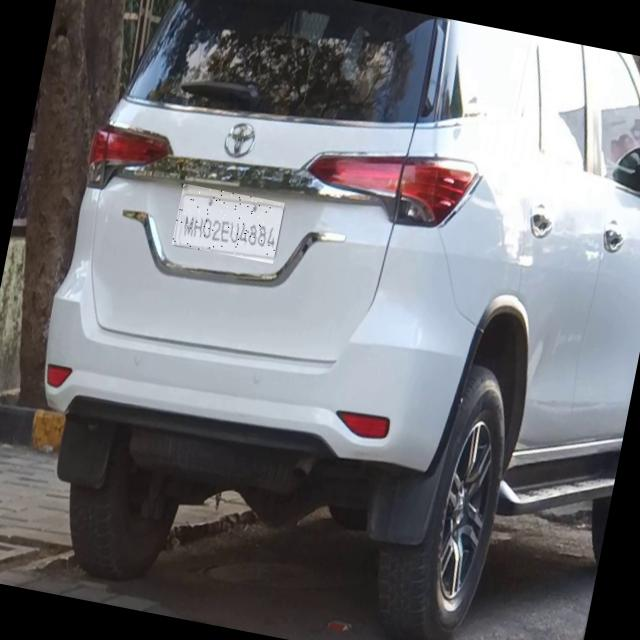Plate: (173, 185, 286, 265)
